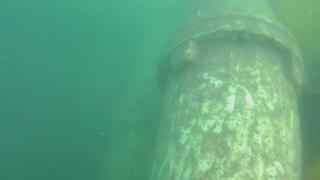pipe: (149, 1, 306, 179), (100, 1, 179, 179), (273, 1, 319, 74), (306, 161, 320, 180)
